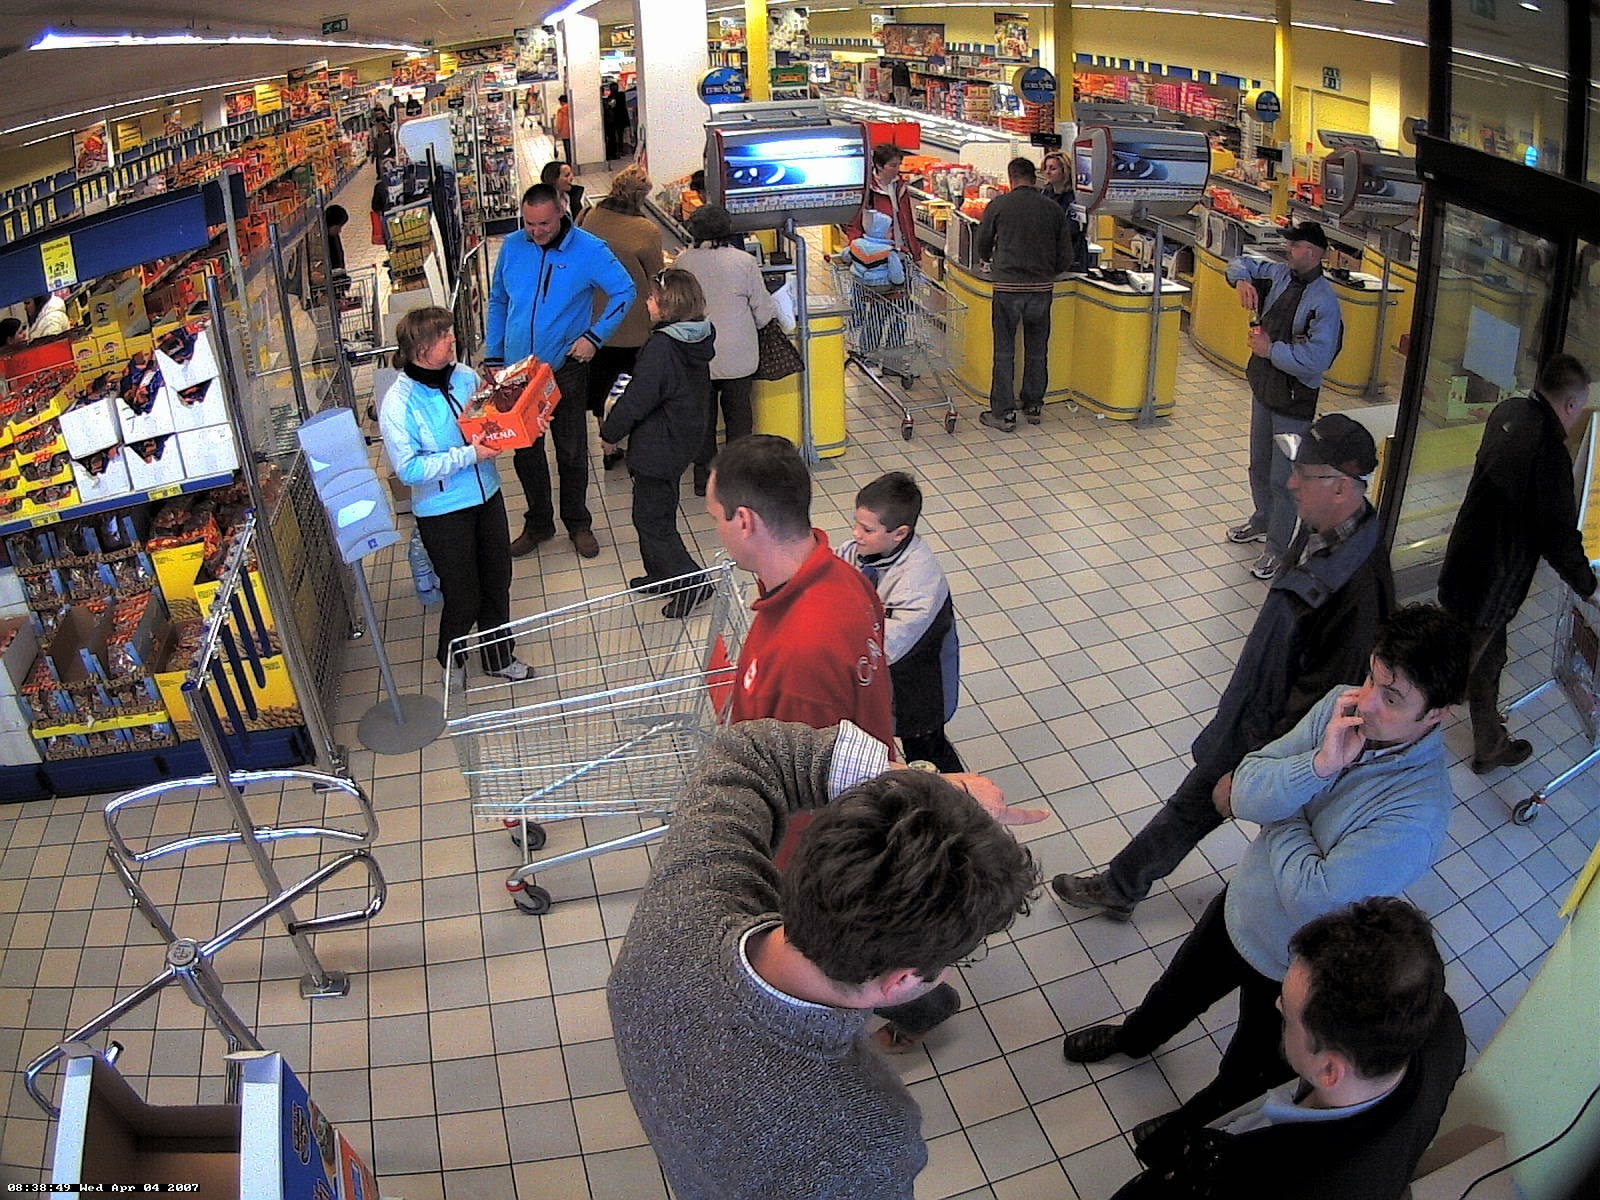Humano: (627, 711, 1062, 1200), (1270, 894, 1495, 1200), (379, 303, 548, 629), (1291, 606, 1457, 924), (695, 434, 855, 727), (1446, 342, 1600, 631), (843, 475, 989, 739), (622, 249, 727, 565), (1270, 413, 1374, 658), (984, 151, 1058, 437), (495, 187, 603, 368), (1246, 213, 1345, 408), (669, 205, 777, 315), (593, 168, 672, 268), (288, 206, 367, 306), (846, 203, 920, 296), (864, 141, 917, 218), (1041, 151, 1088, 213), (364, 120, 405, 192), (539, 160, 586, 201)
